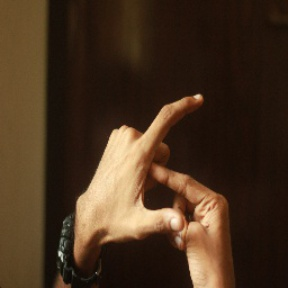E: (129, 80, 214, 248)
